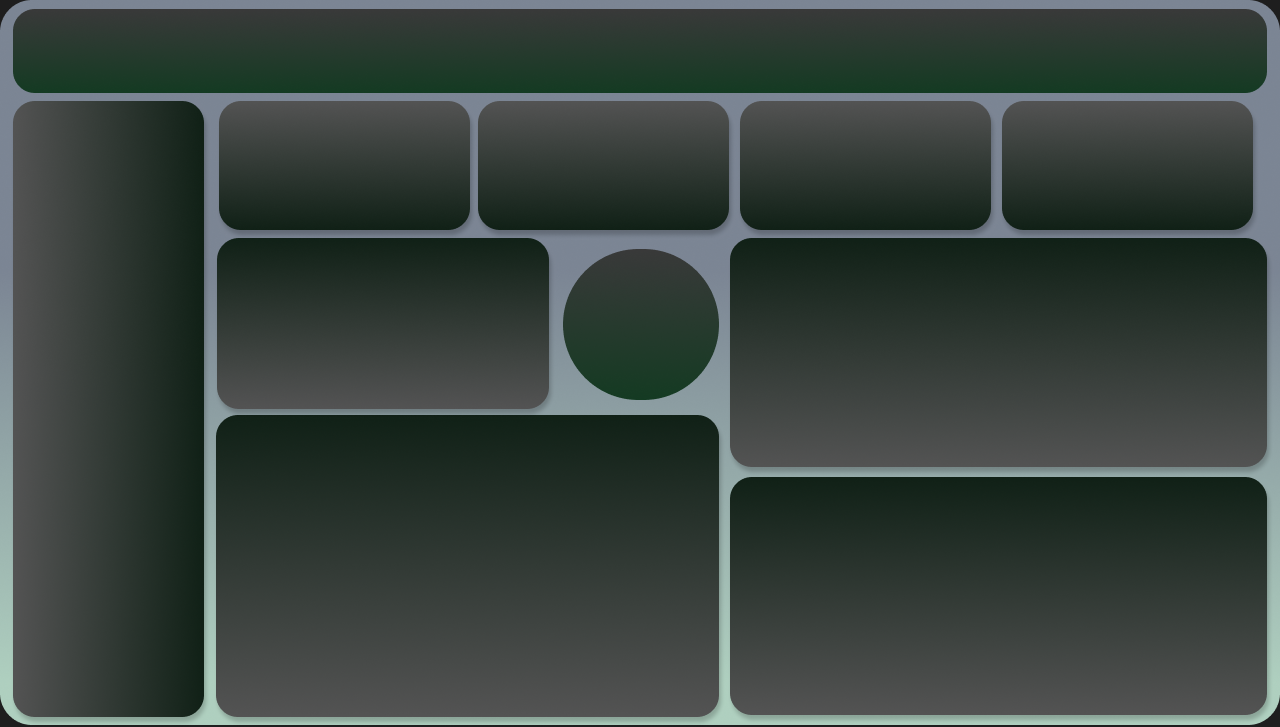

The page's visual inventory and layout, read from the dashboard file:
{"tool":"powerbi","page":{"name":"Page 1","canvas":[1280,720],"ordinal":0},"visuals":[{"type":"pieChart","fields":{"Category":["customer.gender"],"Y":["CountNonNull(customer.gender)"]},"box":[511.4,191.2,259.1,256.4],"z":0},{"type":"donutChart","title":"% of Customers with Subscription","fields":{"Category":["customer.subscription_status"],"Y":["CountNonNull(customer.subscription_status)"]},"box":[210,238.6,350,179.3],"z":1000},{"type":"columnChart","title":"Revenue by category","fields":{"Y":["total_customers.total_Purchase_amount"],"Category":["customer.category"]},"box":[227.3,413,482.2,296.6],"z":2000},{"type":"columnChart","title":"Customers by Age Group","fields":{"Category":["customer.age_group"],"Y":["total_customers.Total_customers"]},"box":[751.1,232.8,491.9,235.6],"z":3000},{"type":"barChart","title":"Sales by Sub Category","fields":{"Category":["customer.item_purchased"],"Y":["total_customers.Total_customers"]},"box":[734.7,475.3,530.7,240],"z":4000},{"type":"cardVisual","fields":{"Data":["total_customers.total_Purchase_amount"]},"box":[210,96.7,271.7,143.3],"z":5000},{"type":"cardVisual","fields":{"Data":["total_customers.Total_customers"]},"box":[464.2,97,270.2,141.3],"z":6000},{"type":"cardVisual","title":"Median Purchase Amount","fields":{"Data":["total_customers.Median_purchase_amount"]},"box":[734.5,97,260.5,141.3],"z":7000},{"type":"textbox","box":[217.6,95.6,255,41.6],"z":8000},{"type":"textbox","box":[472.5,97,261.9,40.2],"z":9000},{"type":"textbox","box":[734.5,95.5,260,41.8],"z":10000},{"type":"textbox","box":[994.7,97.3,265.3,40],"z":11000},{"type":"cardVisual","title":"Median Purchase Amount","fields":{"Data":["total_customers.Median_review_rating"]},"box":[995,95.6,260.5,144.1],"z":12000},{"type":"advancedSlicerVisual","title":"Subscription status","fields":{"Values":["customer.subscription_status"]},"box":[22.2,99.8,162.1,74.8],"z":12001},{"type":"advancedSlicerVisual","title":"Gender","fields":{"Values":["customer.gender"]},"box":[22,180.7,162,74.7],"z":12002},{"type":"slicer","title":"Category","fields":{"Values":["customer.category"]},"box":[12.5,270.2,188.5,177.4],"z":12003},{"type":"listSlicer","title":"Shopping Type","fields":{"Values":["customer.shipping_type"]},"box":[22.2,447.6,178.8,252.2],"z":12004},{"type":"textbox","box":[22.2,12.5,672.1,76.2],"z":12005},{"type":"slicer","title":"All Items","fields":{"Values":["customer.item_purchased"]},"box":[700,9.2,543.3,81.7],"z":12006}]}

Visuals, with their boxes in screenshot pixels (x1, y1, x2, y2), scaled from the page's 1280x720 canvas onto the 1280x727 screenshot:
pieChart - customer.gender x CountNonNull(customer.gender): detection(511, 193, 770, 452)
"% of Customers with Subscription" donutChart: detection(210, 241, 560, 422)
"Revenue by category" columnChart: detection(227, 417, 710, 716)
"Customers by Age Group" columnChart: detection(751, 235, 1243, 473)
"Sales by Sub Category" barChart: detection(735, 480, 1265, 722)
cardVisual - total_customers.total_Purchase_amount: detection(210, 98, 482, 242)
cardVisual - total_customers.Total_customers: detection(464, 98, 734, 241)
"Median Purchase Amount" cardVisual: detection(734, 98, 995, 241)
textbox: detection(218, 97, 473, 139)
textbox: detection(472, 98, 734, 139)
textbox: detection(734, 96, 994, 139)
textbox: detection(995, 98, 1260, 139)
"Median Purchase Amount" cardVisual: detection(995, 97, 1256, 242)
"Subscription status" advancedSlicerVisual: detection(22, 101, 184, 176)
"Gender" advancedSlicerVisual: detection(22, 182, 184, 258)
"Category" slicer: detection(12, 273, 201, 452)
"Shopping Type" listSlicer: detection(22, 452, 201, 707)
textbox: detection(22, 13, 694, 90)
"All Items" slicer: detection(700, 9, 1243, 92)
